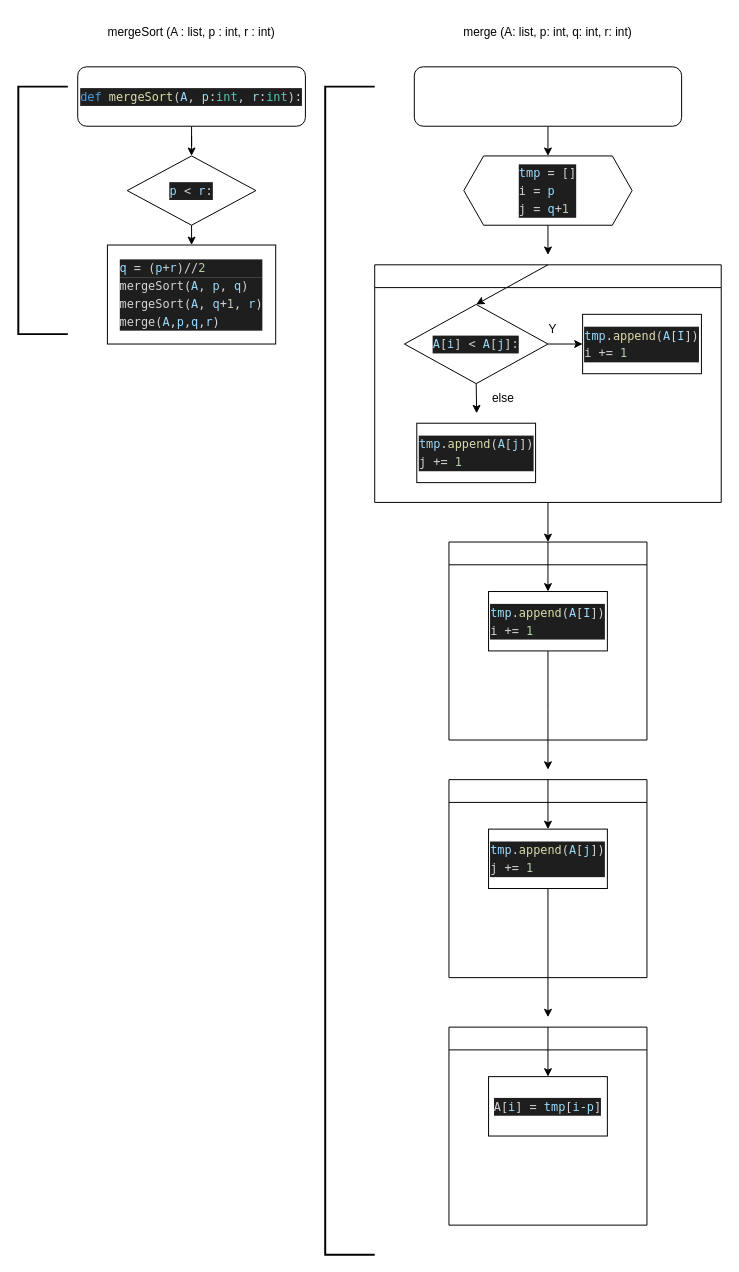
Some shapes in this 739 by 1272 pixel diagram are drawn without their labels. The shapes that lost their labels are listed below. From the top down, each one's box as (x1, y1, x2, y2) in pixels, then its label:
(413, 66, 682, 126): def merge ( A , p : int , q : int , r : int ):
(374, 264, 721, 502): i <= q and j <= r :
(448, 541, 647, 740): i <= q :
(448, 779, 647, 978): j <= r :
(448, 1026, 647, 1225): i in range ( p , r + 1 ):
